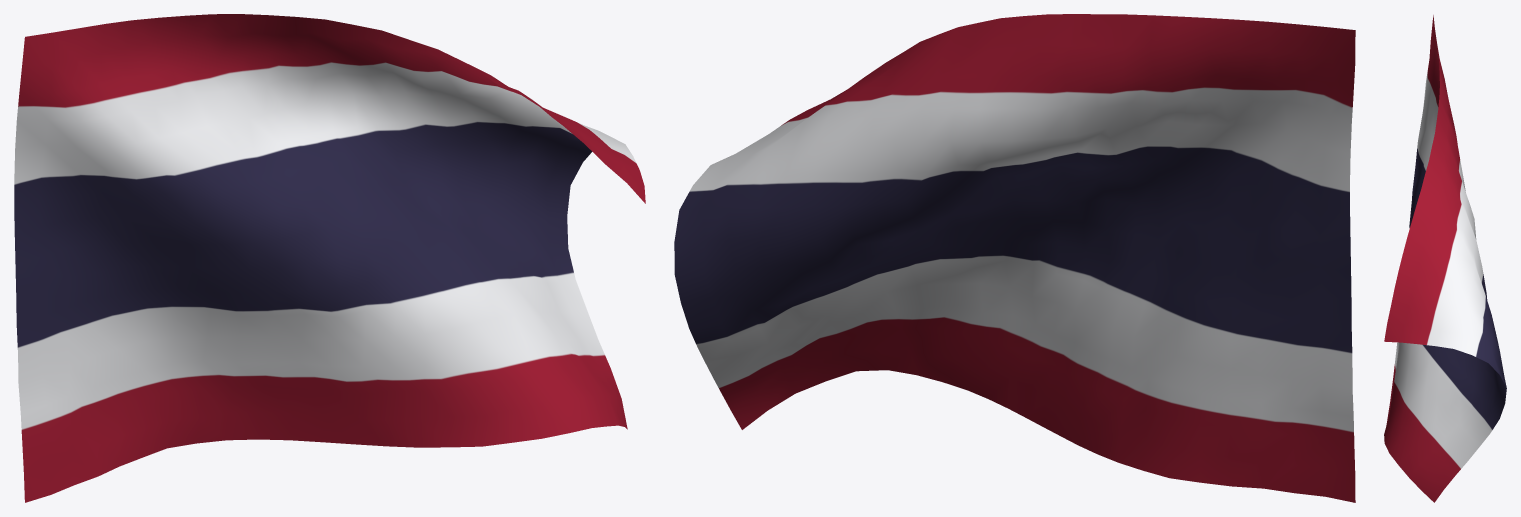
Rendered from thailand.glb.
3 views of the same model, side by side, from view 1: azimuth 30°, elevation 25°; view 2: azimuth 150°, elevation 25°; view 3: azimuth 270°, elevation 25° (orthographic). The views are drawn at different scales.
Visible parts, largest first — view 1: Flag ShapeKeys_2_4_7; view 2: Flag ShapeKeys_2_4_7; view 3: Flag ShapeKeys_2_4_7.
Part boxes in pixels (bbox=[...]): Flag ShapeKeys_2_4_7: bbox=[14, 14, 645, 502]; Flag ShapeKeys_2_4_7: bbox=[674, 14, 1355, 502]; Flag ShapeKeys_2_4_7: bbox=[1384, 15, 1506, 502].
Size of the model in its own units: 2.8 by 2.32 by 0.8164.
Materials: 1 (1 with a texture image).
